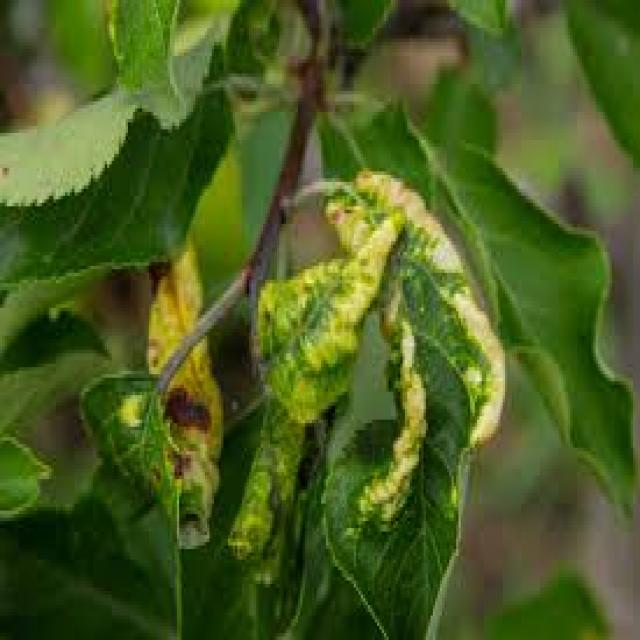aphid: (119, 409, 144, 434)
